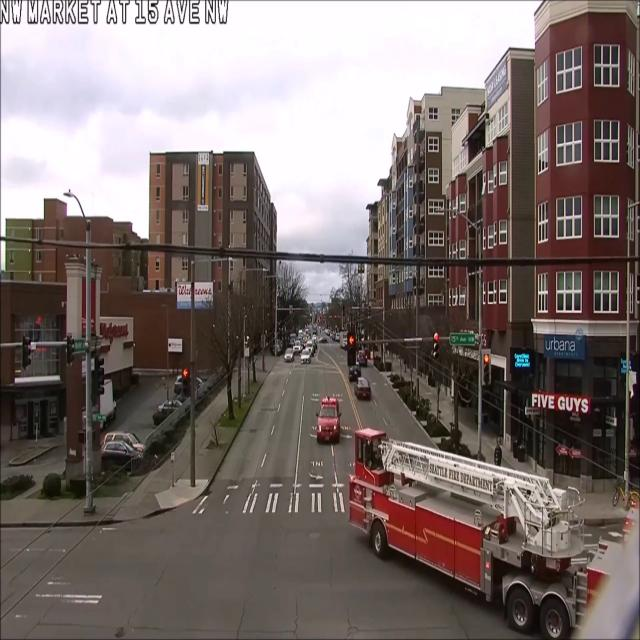traffic-light: (316, 398, 341, 442), (354, 376, 371, 398), (301, 349, 311, 364)
truck: (347, 408, 600, 633)
